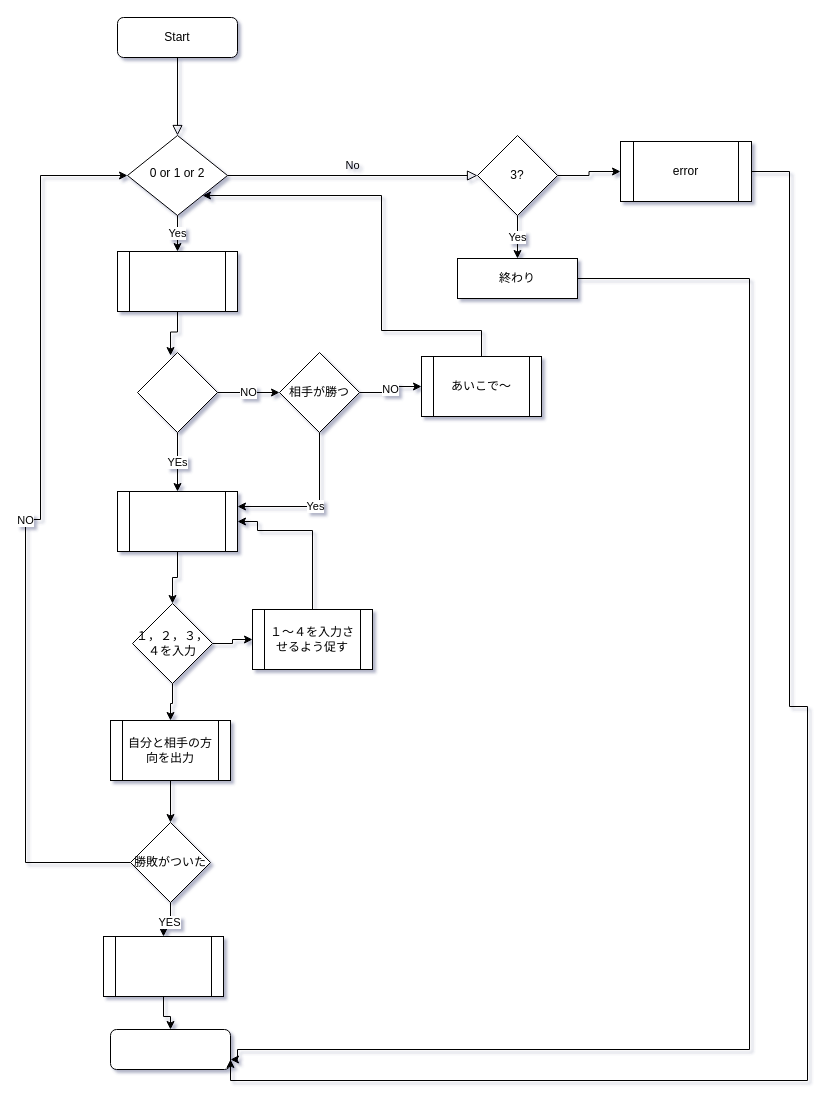
Some shapes in this 839 by 1112 pixel diagram are drawn without their labels. The box of each missing label's shape, as (x1, y1, x2, y2) in pixels:
End: (110, 1028, 230, 1070)
あっちむいて〜 で上下左右を選択させる: (116, 490, 238, 552)
勝敗を出力: (102, 936, 224, 996)
自分が勝つ: (136, 352, 218, 432)
自分と相手の手を出力: (116, 250, 238, 312)
